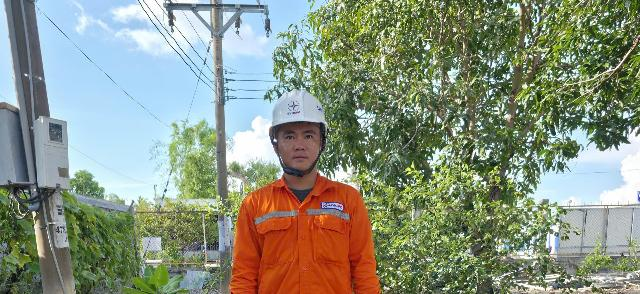helmet: (268, 88, 327, 139)
